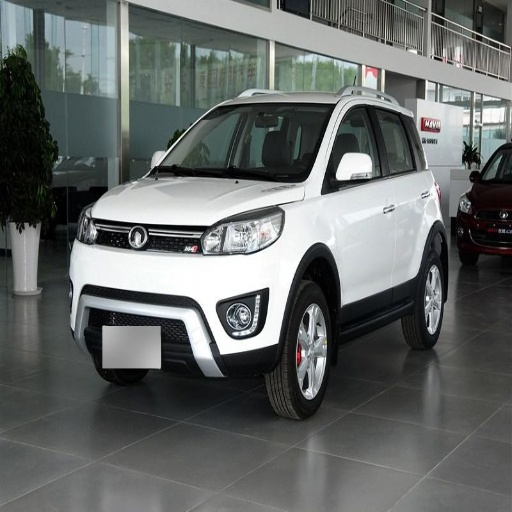front_bumper: (71, 217, 301, 378)
front_glass: (152, 107, 333, 181)
front_left_door: (325, 101, 393, 319)
